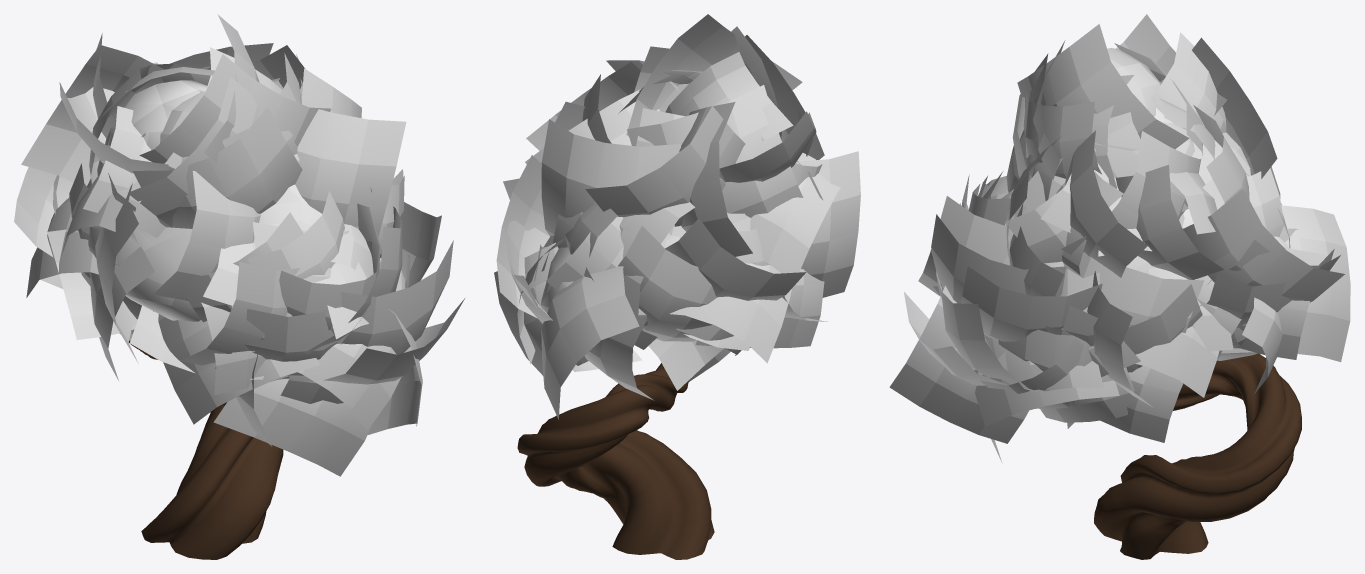
The model's file is ProceduralTree_01.fbx.
The picture shows the model from 3 angles, left to right: view 1: azimuth 30°, elevation 25°; view 2: azimuth 150°, elevation 25°; view 3: azimuth 270°, elevation 25°; orthographic projection. The views are drawn at different scales.
Parts seen in each view (by area): view 1: ProceduralTree_01_Leaves, ProceduralTree_01; view 2: ProceduralTree_01_Leaves, ProceduralTree_01; view 3: ProceduralTree_01_Leaves, ProceduralTree_01.
Part boxes in pixels (x1,y1,x2,y2): ProceduralTree_01_Leaves: (14,14,464,476); ProceduralTree_01: (128,340,283,559); ProceduralTree_01_Leaves: (494,14,860,419); ProceduralTree_01: (517,363,714,559); ProceduralTree_01_Leaves: (889,14,1350,463); ProceduralTree_01: (1094,353,1301,559).
Size of the model in its own units: 794 by 1159 by 955.
